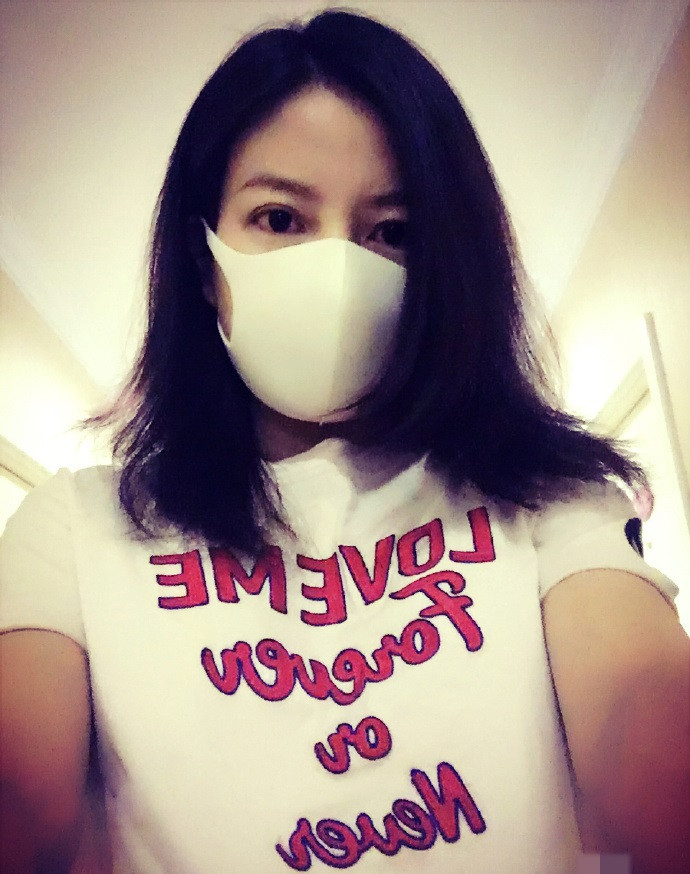face_mask: (220, 101, 414, 418)
